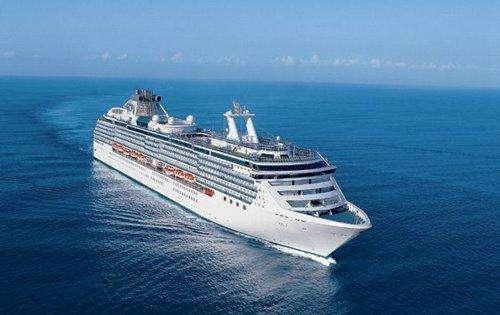youlun: (90, 88, 372, 260)
